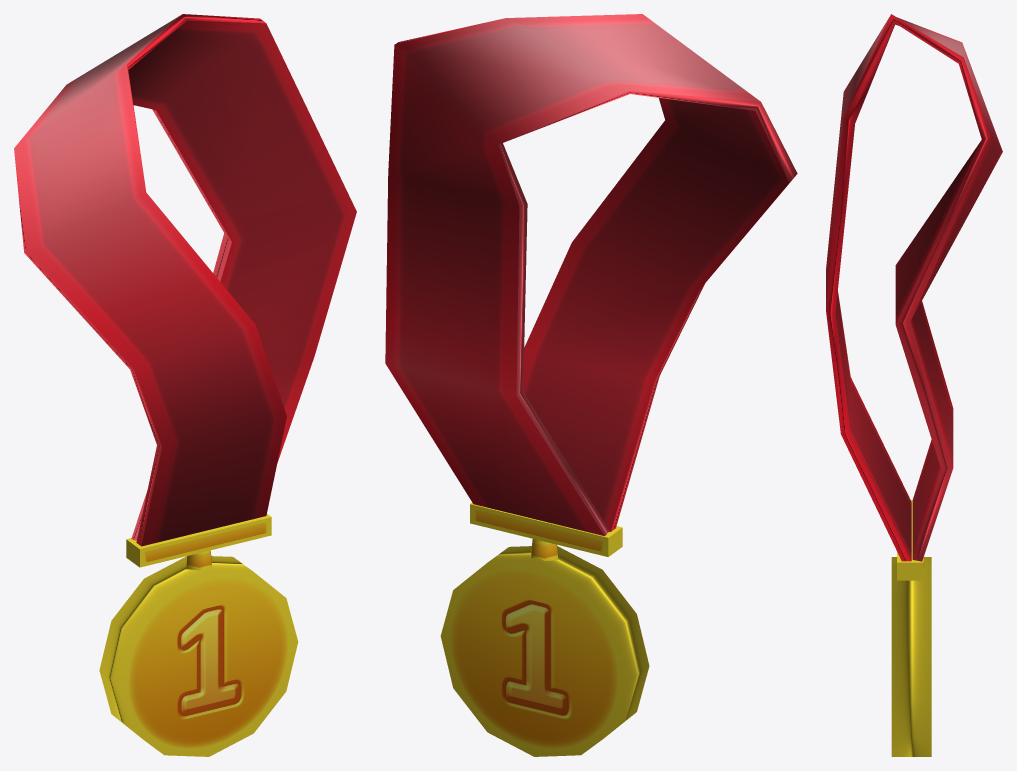
File: medal.fbx
3 views of the same model, side by side, from view 1: azimuth 30°, elevation 25°; view 2: azimuth 150°, elevation 25°; view 3: azimuth 270°, elevation 25° (orthographic). The views are drawn at different scales.
Parts seen in each view (by area): view 1: medal1; view 2: medal1; view 3: medal1.
Boxes of the visible parts, bbox=[...] form: medal1: bbox=[14, 14, 356, 756]; medal1: bbox=[385, 14, 797, 756]; medal1: bbox=[826, 14, 1002, 756].
Size of the model in its own units: 4.2 by 8.05 by 1.86.
